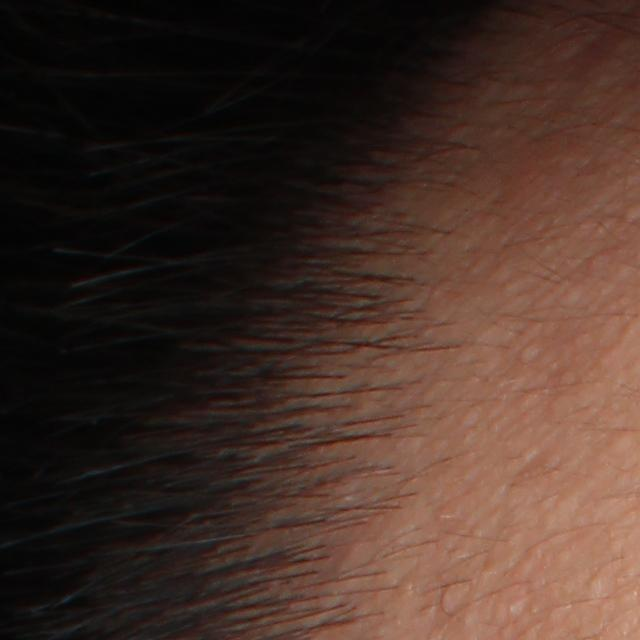comedo: (609, 429, 634, 454), (501, 599, 525, 621), (517, 343, 540, 364)
